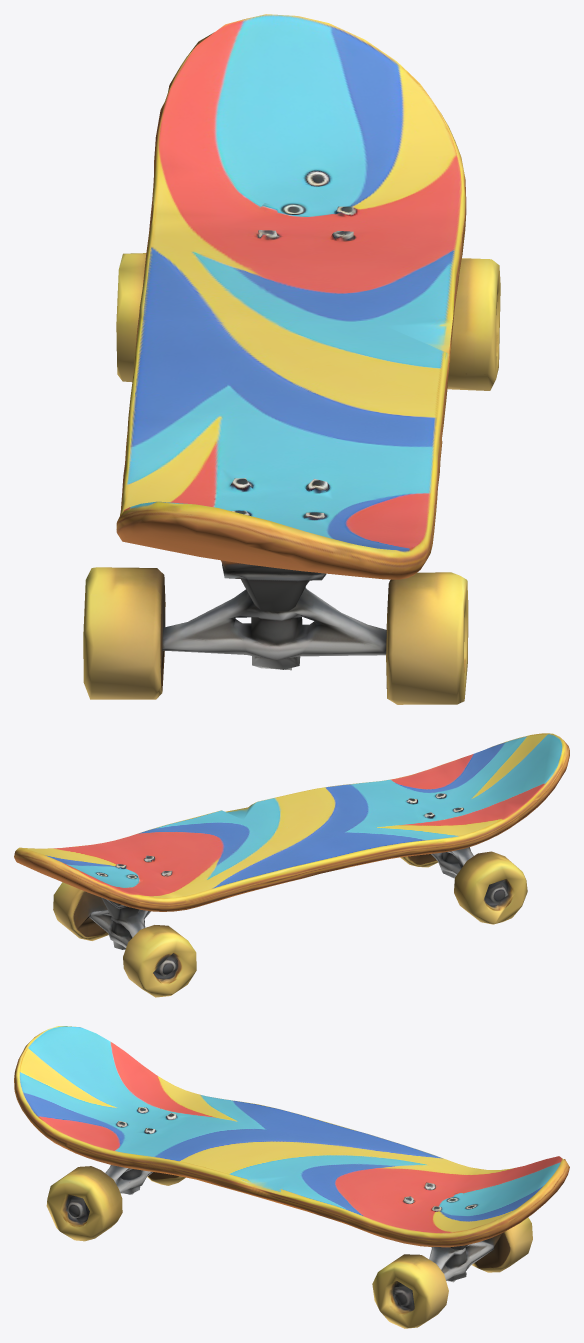
Rendered from skate.glb.
3 views of the same model, one above another, from view 1: azimuth 30°, elevation 25°; view 2: azimuth 150°, elevation 25°; view 3: azimuth 270°, elevation 25° (orthographic). The views are drawn at different scales.
Visible parts, largest first — view 1: tripo_node_f7ab281a-bed6-48f4-b155-ee9c42aab267; view 2: tripo_node_f7ab281a-bed6-48f4-b155-ee9c42aab267; view 3: tripo_node_f7ab281a-bed6-48f4-b155-ee9c42aab267.
Boxes of the visible parts, x1,y1,x2,y2 form: tripo_node_f7ab281a-bed6-48f4-b155-ee9c42aab267: (83, 14, 500, 704); tripo_node_f7ab281a-bed6-48f4-b155-ee9c42aab267: (14, 733, 569, 997); tripo_node_f7ab281a-bed6-48f4-b155-ee9c42aab267: (14, 1026, 569, 1328).
Size of the model in its own units: 0.6567 by 0.2531 by 0.8879.
1 material, 1 textured.
